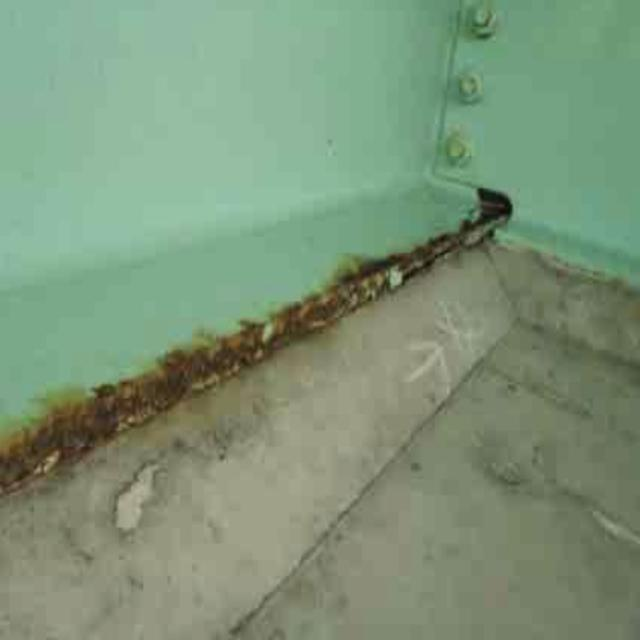corrosion: (7, 186, 517, 490)
